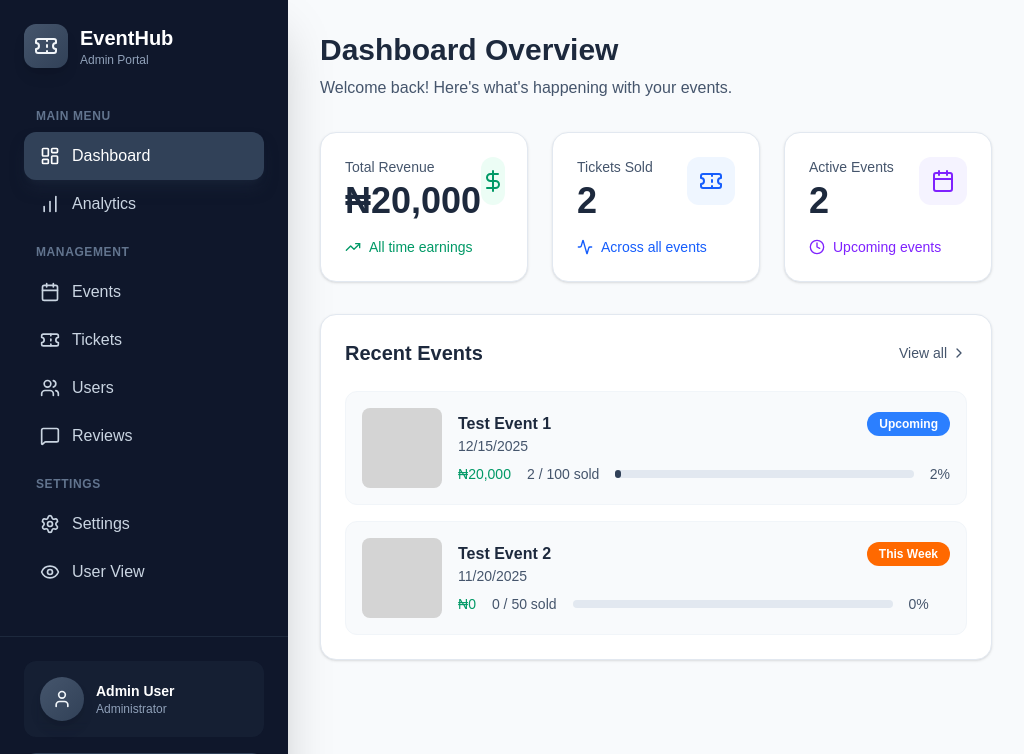
Scenario: AdminPage › Tickets View › should display tickets table
// Navigate to tickets view
Click the button "Tickets" at (144, 340), box [24, 316, 264, 364]
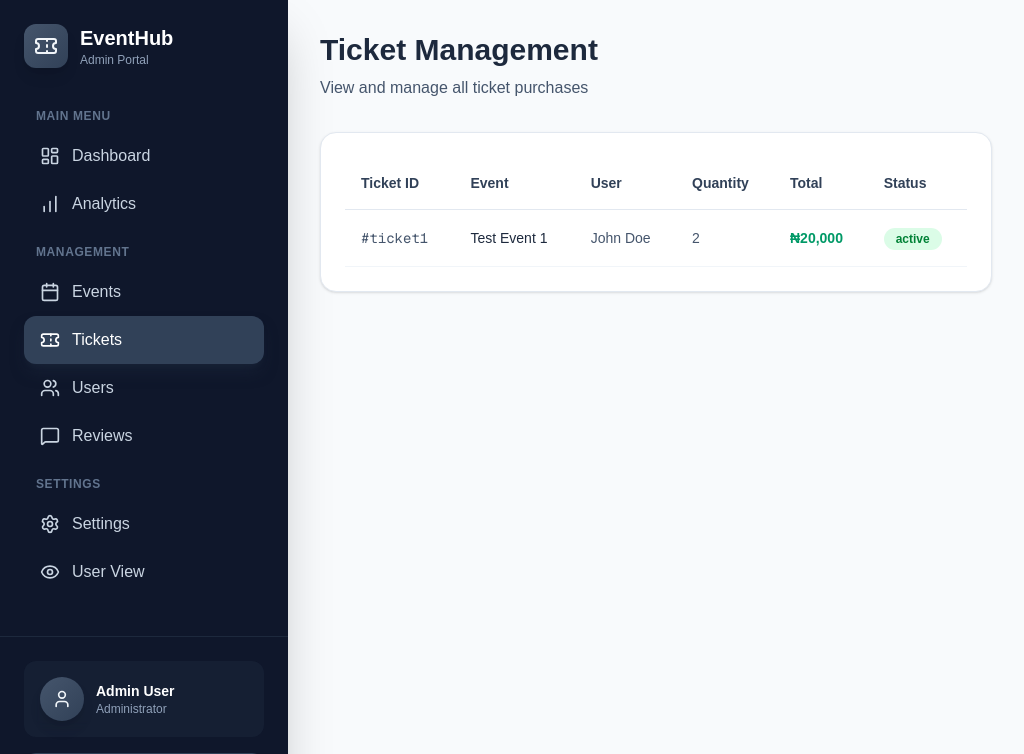
expect the text "₦20,000" is shown: met, box [774, 210, 868, 266]
expect the heading "Ticket Management" is shown: met, box [320, 33, 598, 66]
expect the text "John Doe" is shown: met, box [575, 210, 676, 266]
